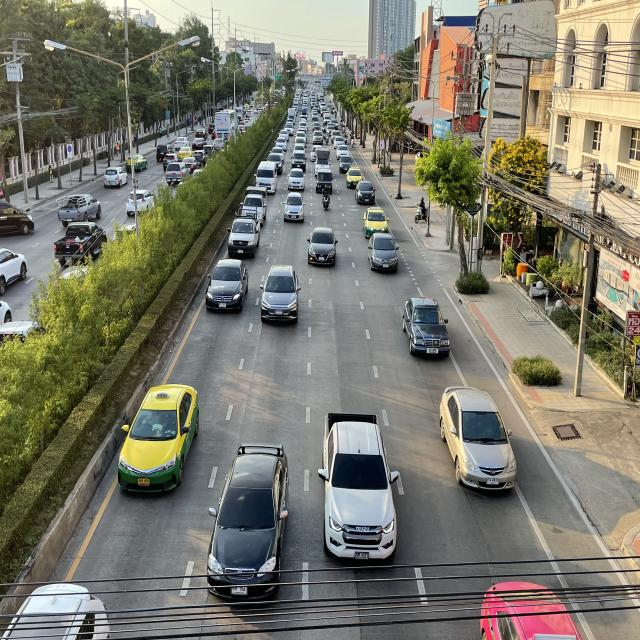bike: (321, 184, 330, 212)
car: (205, 441, 291, 609), (318, 411, 400, 568), (115, 382, 200, 495), (438, 383, 519, 494), (402, 294, 451, 359), (259, 262, 302, 326), (205, 258, 249, 314), (367, 231, 399, 273), (307, 226, 338, 267), (362, 205, 390, 238), (282, 192, 306, 225), (355, 179, 376, 205)
truck: (227, 209, 261, 259), (240, 185, 268, 227)
